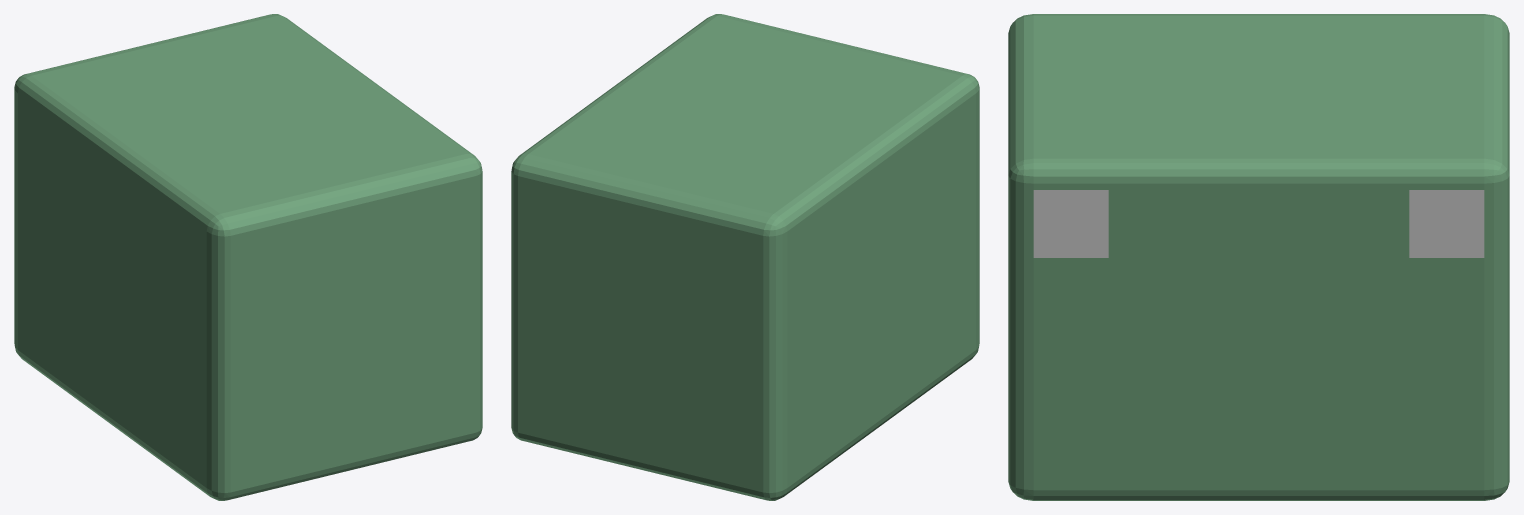
The model's file is SState_Hashtag.dae.
The picture shows the model from 3 angles, left to right: view 1: azimuth 30°, elevation 25°; view 2: azimuth 150°, elevation 25°; view 3: azimuth 270°, elevation 25°; orthographic projection. The views are drawn at different scales.
Parts seen in each view (by area): view 1: Cube; view 2: Cube; view 3: Cube, Plane, Plane_001.
Boxes of the visible parts, <box> form: Cube: <box>14,14,482,500</box>; Cube: <box>511,14,979,500</box>; Cube: <box>1008,14,1509,500</box>; Plane: <box>1033,190,1108,257</box>; Plane_001: <box>1409,190,1484,257</box>.
Bounding box in the file's own units: 1.51 × 2 × 1.5.
